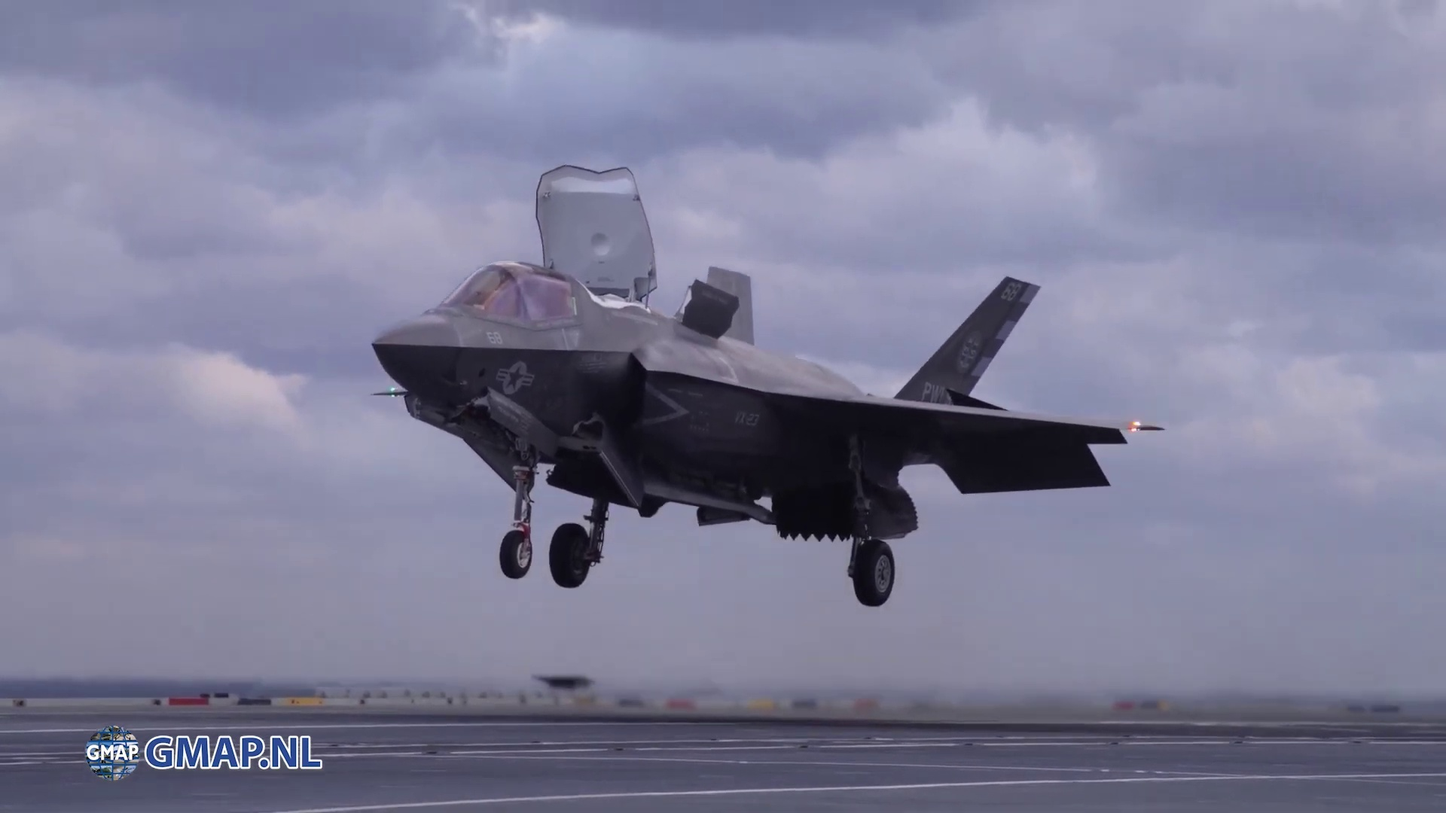F35: (367, 160, 1169, 610)
